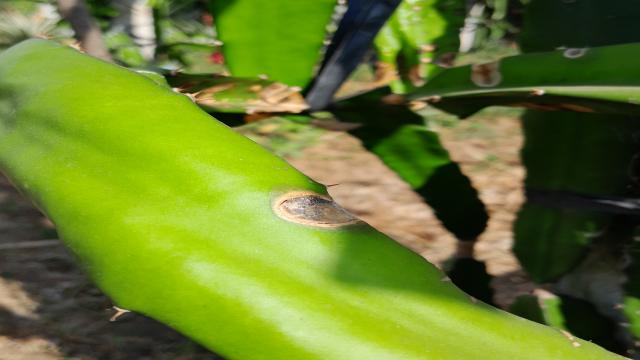stemcanker: (269, 188, 369, 231), (469, 56, 504, 88)
